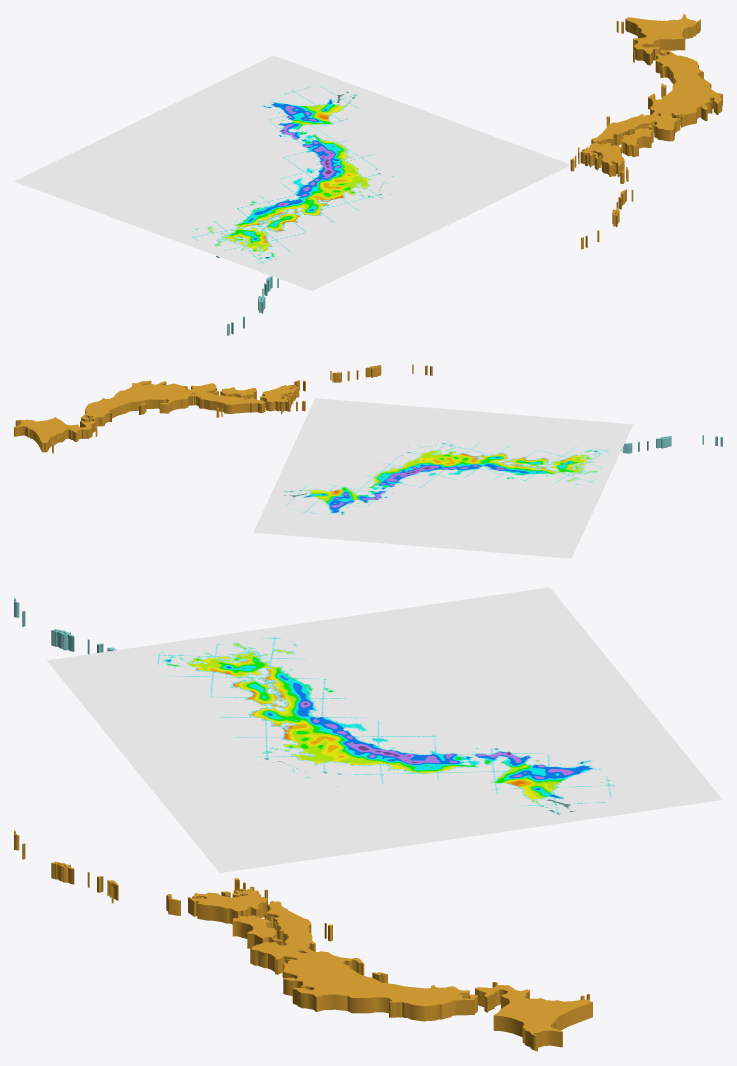
Rendered from hea 1.fbx.
The picture shows the model from 3 angles, top to bottom: view 1: azimuth 30°, elevation 25°; view 2: azimuth 150°, elevation 25°; view 3: azimuth 270°, elevation 25°; orthographic projection. The views are drawn at different scales.
Parts seen in each view (by area): view 1: pPlane1, JAPAN_S02; view 2: pPlane1, JAPAN_S02; view 3: pPlane1, JAPAN_S02.
Boxes of the visible parts, bbox=[...] form: pPlane1: bbox=[14, 55, 571, 290]; JAPAN_S02: bbox=[570, 14, 722, 249]; pPlane1: bbox=[253, 398, 633, 558]; JAPAN_S02: bbox=[14, 364, 432, 453]; pPlane1: bbox=[46, 587, 722, 872]; JAPAN_S02: bbox=[14, 830, 592, 1051].
Size of the model in its own units: 31.68 by 0.54 by 21.18.
